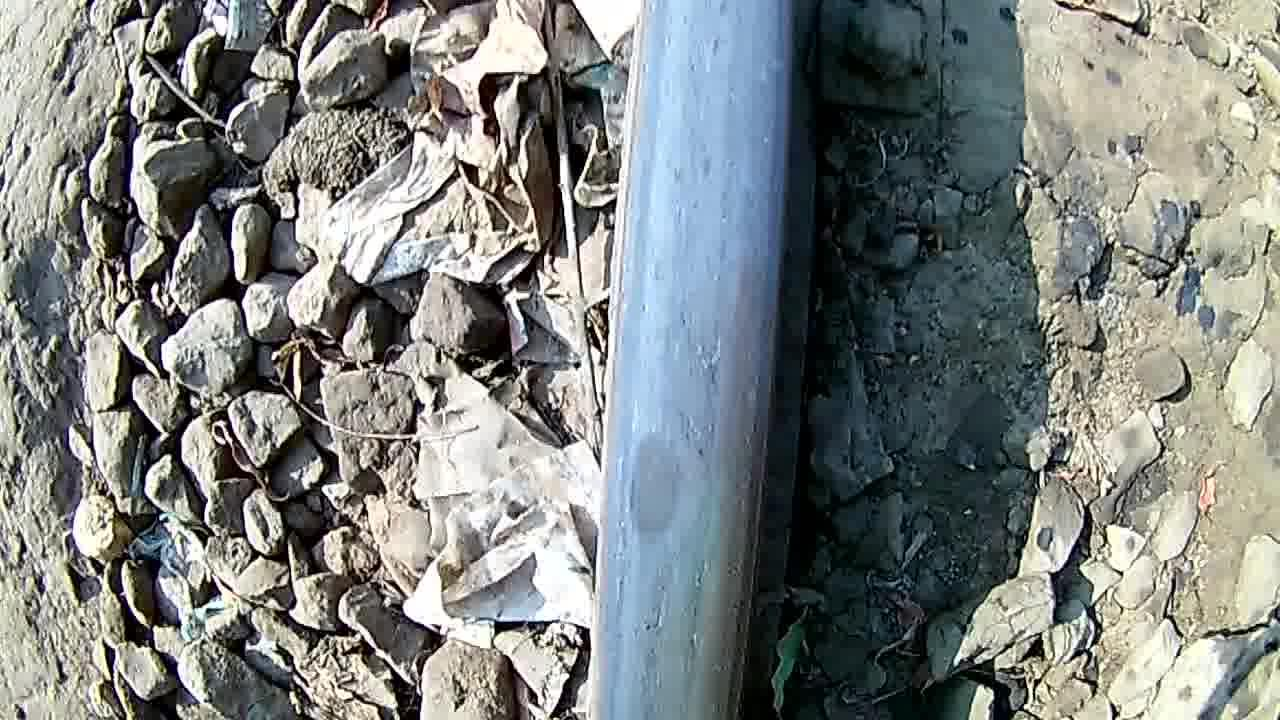bolt_missing: (599, 417, 704, 557)
